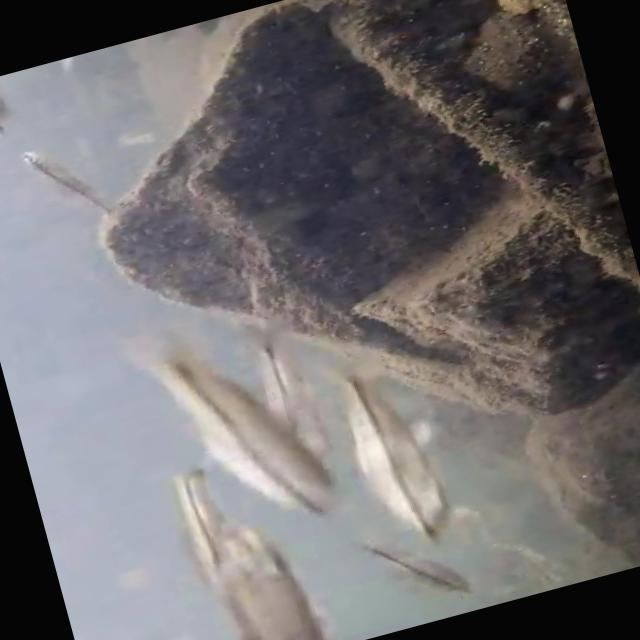Cakil Baligi: (120, 309, 338, 551), (324, 362, 462, 548), (356, 516, 476, 618), (18, 130, 128, 238)
